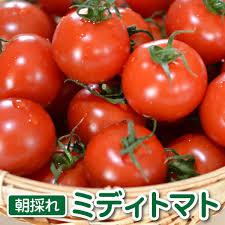tomato: (122, 38, 206, 123), (52, 10, 131, 82), (86, 121, 167, 189), (65, 86, 147, 148), (1, 97, 57, 179), (1, 34, 62, 105), (164, 3, 223, 65), (163, 132, 223, 184), (2, 2, 54, 46)
